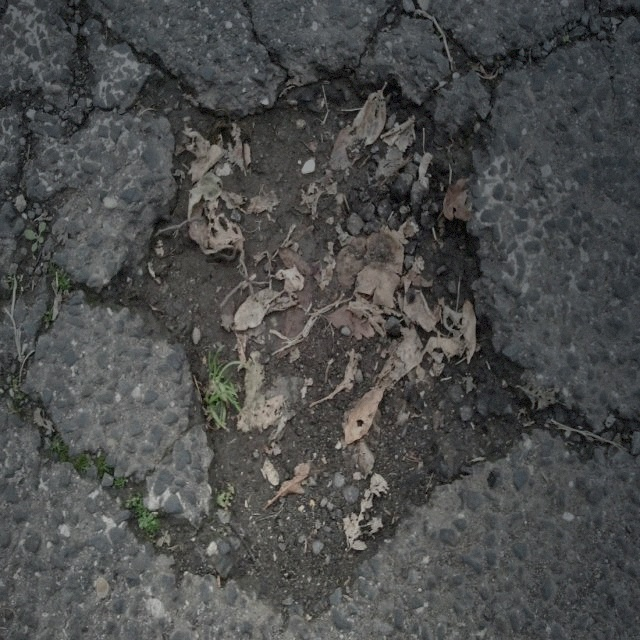pothole: (98, 55, 542, 615)
